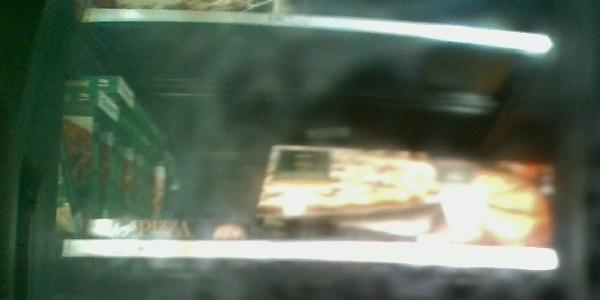pizza: (249, 145, 437, 249), (437, 155, 554, 254)
